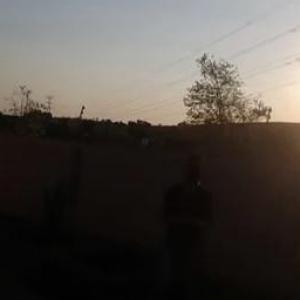follow: (152, 149, 217, 299)
